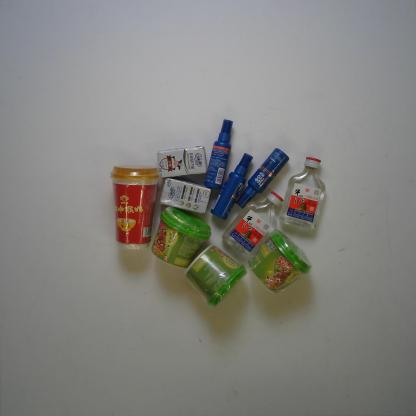Alcohol: (222, 191, 286, 267), (279, 157, 326, 231)
Instant Drink: (109, 162, 162, 252), (248, 229, 312, 292), (183, 243, 246, 306), (151, 206, 211, 269)
Milk: (159, 177, 213, 215), (156, 145, 209, 180)
Personal Hygiene: (234, 148, 290, 209), (210, 152, 254, 220), (200, 117, 234, 192)
